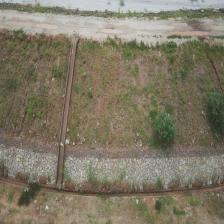rock_toe: (64, 154, 224, 189), (0, 146, 56, 185)
slope_drain: (56, 37, 79, 189)
